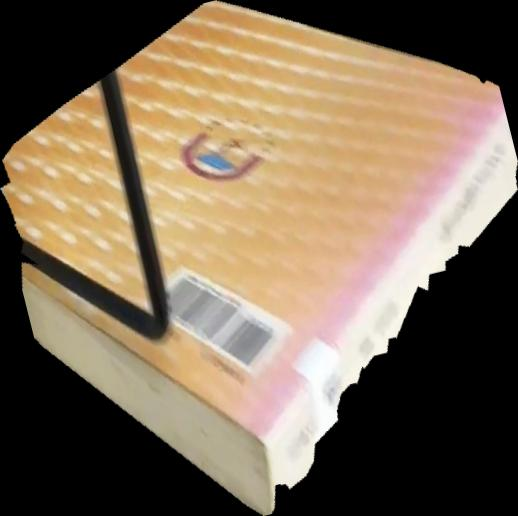flat: (1, 1, 518, 516)
